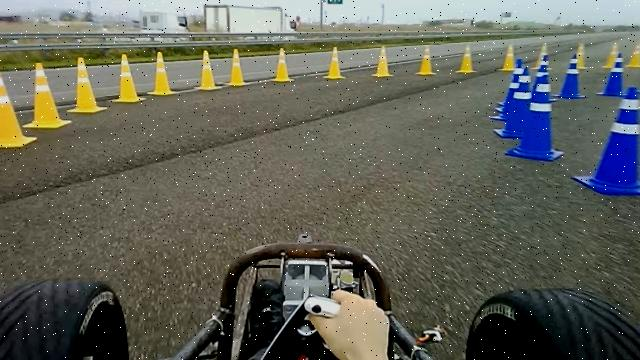blue cone: (573, 85, 640, 195), (505, 81, 565, 161), (490, 76, 533, 138), (554, 53, 588, 99), (596, 52, 626, 96), (531, 54, 553, 95)
yellow cone: (22, 62, 72, 129), (0, 70, 38, 148), (67, 56, 107, 113), (109, 53, 146, 103), (147, 51, 179, 96), (194, 49, 222, 91), (224, 48, 250, 86), (271, 46, 295, 82), (323, 46, 346, 80), (371, 45, 394, 77), (455, 44, 478, 74), (415, 46, 437, 76)
